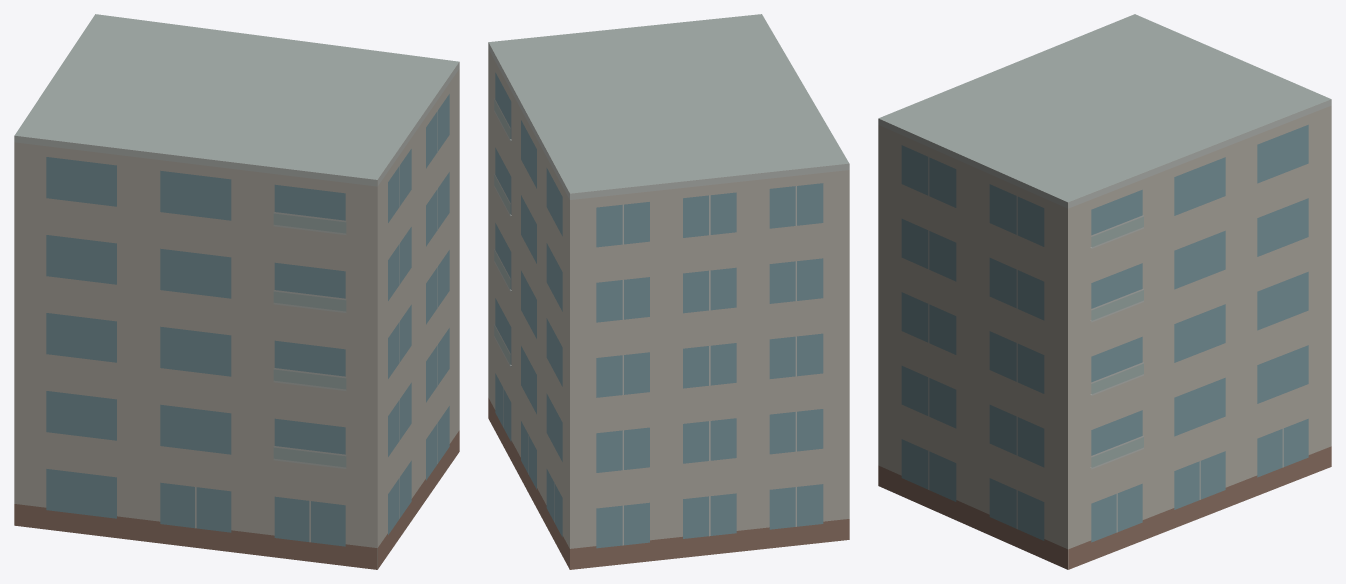
The model's file is survey-upis-32854571.glb.
3 renders of one model, left to right at view 1: azimuth 30°, elevation 25°; view 2: azimuth 150°, elevation 25°; view 3: azimuth 270°, elevation 25°, orthographic. The views are drawn at different scales.
Parts seen in each view (by area): view 1: survey-upis-32854571.tmp; view 2: survey-upis-32854571.tmp; view 3: survey-upis-32854571.tmp.
Boxes of the visible parts, bbox=[...] form: survey-upis-32854571.tmp: bbox=[14, 14, 459, 569]; survey-upis-32854571.tmp: bbox=[488, 14, 849, 569]; survey-upis-32854571.tmp: bbox=[878, 14, 1331, 569].
Bounding box in the file's own units: 15.73 × 14.3 × 16.
